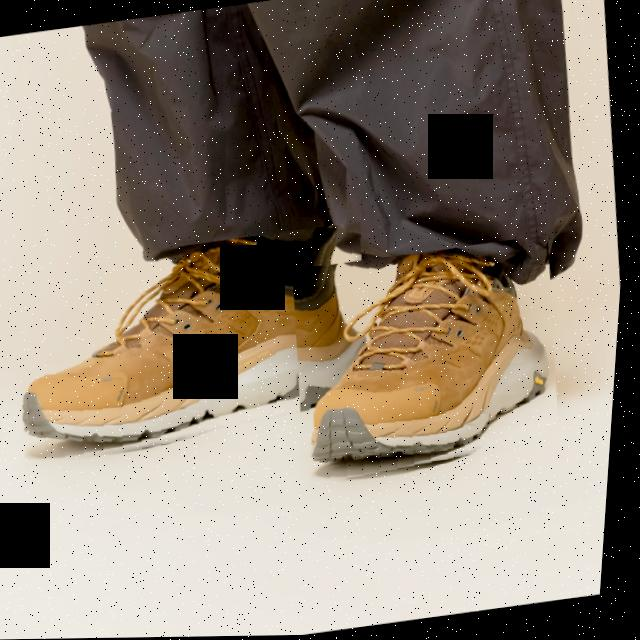shoe: (26, 224, 367, 454), (308, 248, 562, 475)
